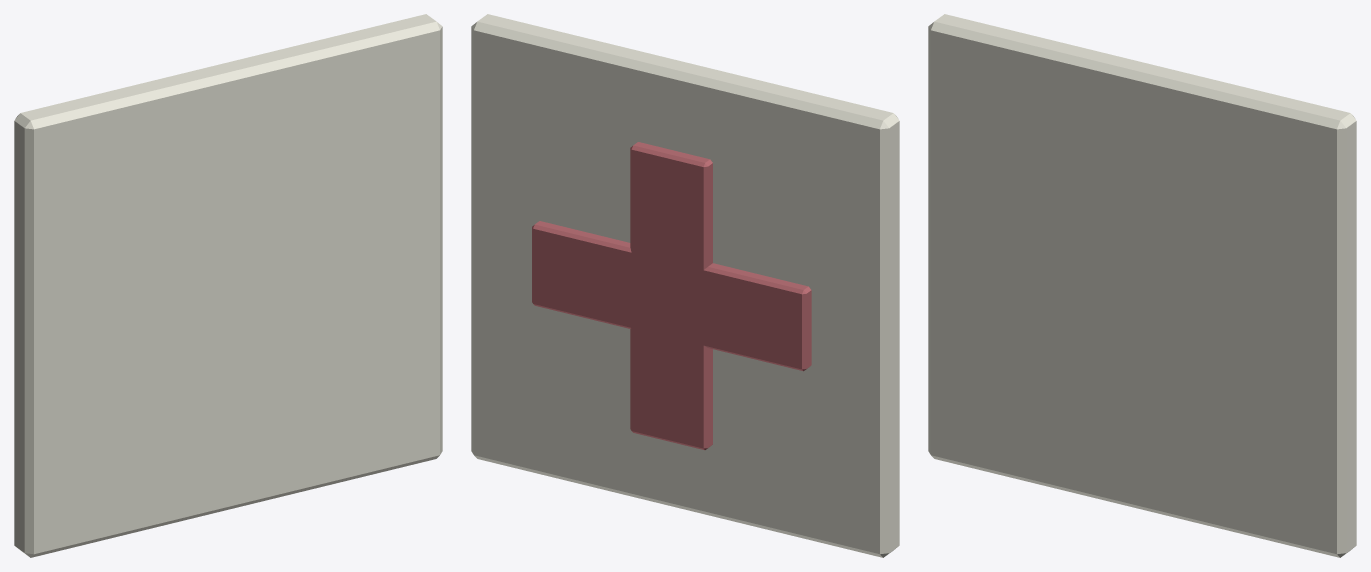
The model's file is first_aid_wall_sign.glb.
The picture shows the model from 3 angles, left to right: view 1: azimuth 30°, elevation 25°; view 2: azimuth 150°, elevation 25°; view 3: azimuth 330°, elevation 25°; orthographic projection.
Visible parts, largest first — view 1: aid_sign; view 2: aid_sign, cross_h, cross_v; view 3: aid_sign.
Boxes of the visible parts, x1,y1,x2,y2 form: aid_sign: [14, 14, 442, 557]; aid_sign: [471, 14, 899, 557]; cross_h: [532, 221, 811, 371]; cross_v: [630, 142, 712, 450]; aid_sign: [928, 14, 1356, 557].
Size of the model in its own units: 0.35 by 0.35 by 0.0385.
